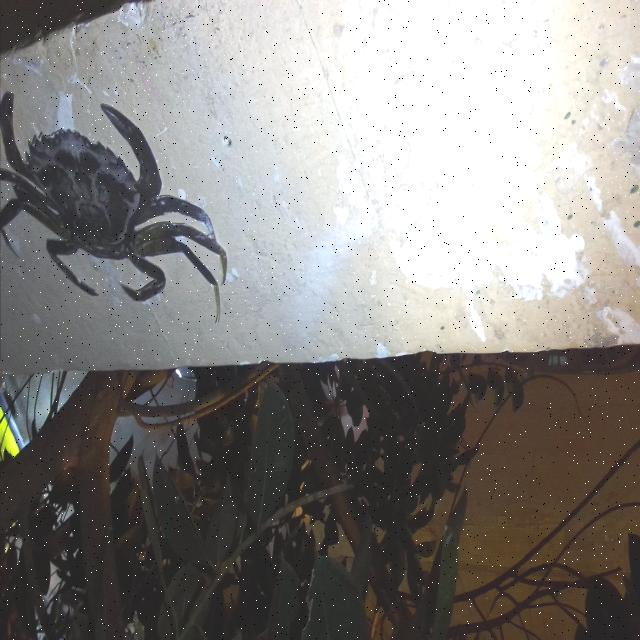European_Green_Crab: (0, 94, 222, 300)
